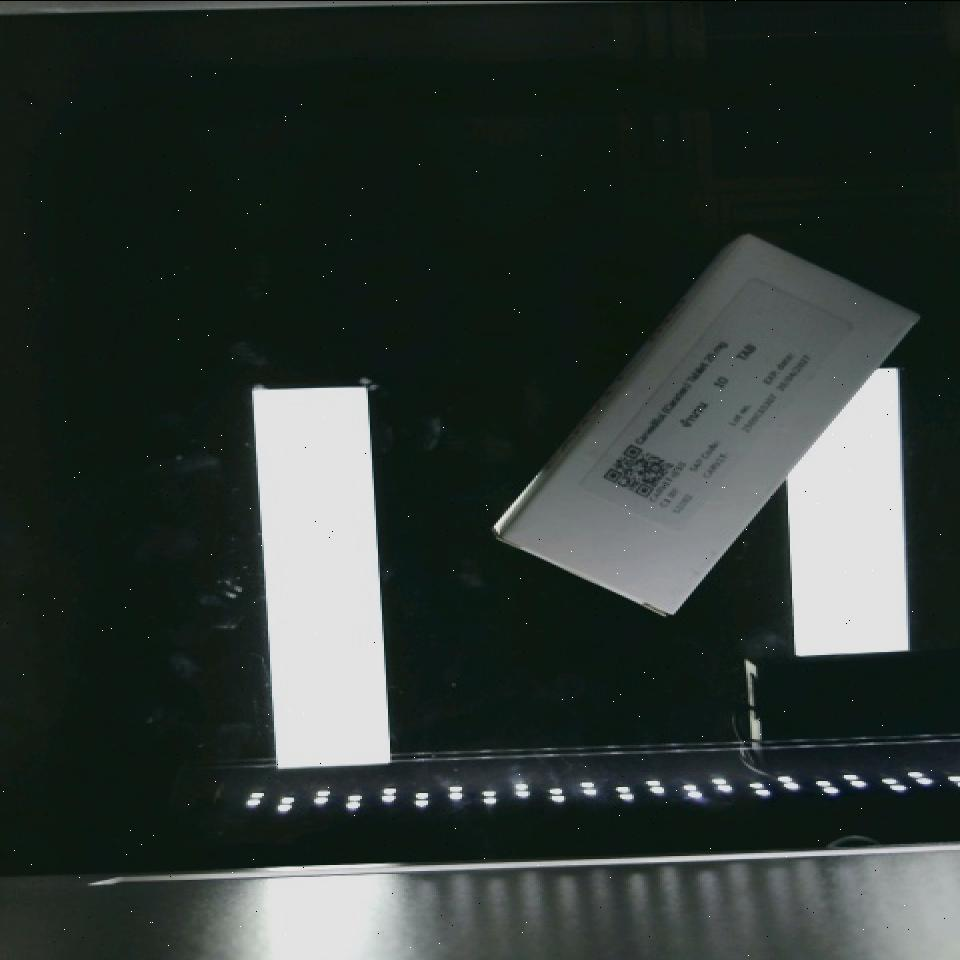medicine_box: (486, 190, 925, 656)
qr_code: (590, 420, 689, 520)
